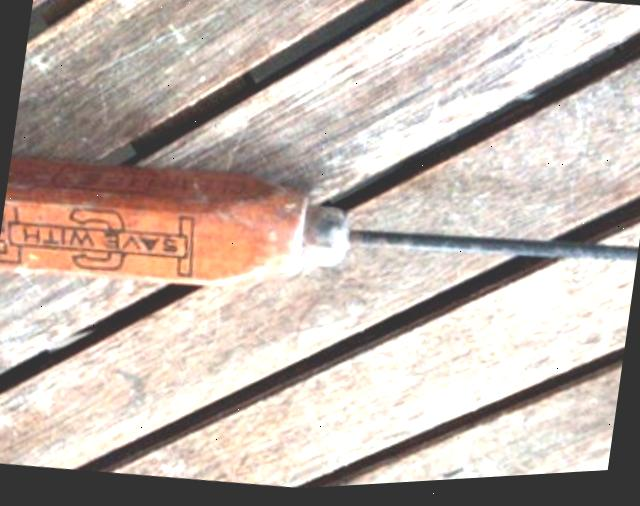ice pick: (0, 122, 640, 359)
